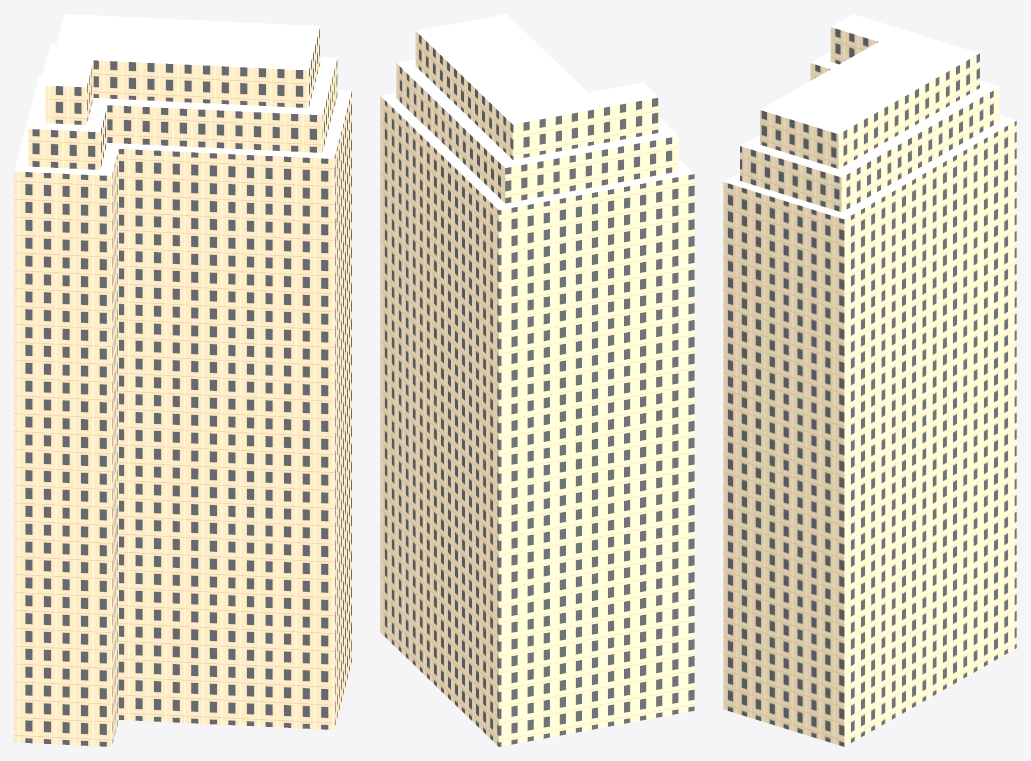
The model's file is landmark-ritz-carlton.glb.
The picture shows the model from 3 angles, left to right: view 1: azimuth 30°, elevation 25°; view 2: azimuth 150°, elevation 25°; view 3: azimuth 270°, elevation 25°; orthographic projection. The views are drawn at different scales.
Parts seen in each view (by area): view 1: ritz-carlton; view 2: ritz-carlton; view 3: ritz-carlton.
Part boxes in pixels (bbox=[...]): ritz-carlton: bbox=[14, 14, 351, 746]; ritz-carlton: bbox=[380, 14, 694, 746]; ritz-carlton: bbox=[723, 14, 1016, 746].
Bounding box in the file's own units: 74.79 × 137 × 61.23.
Materials: 2 (1 with a texture image).
